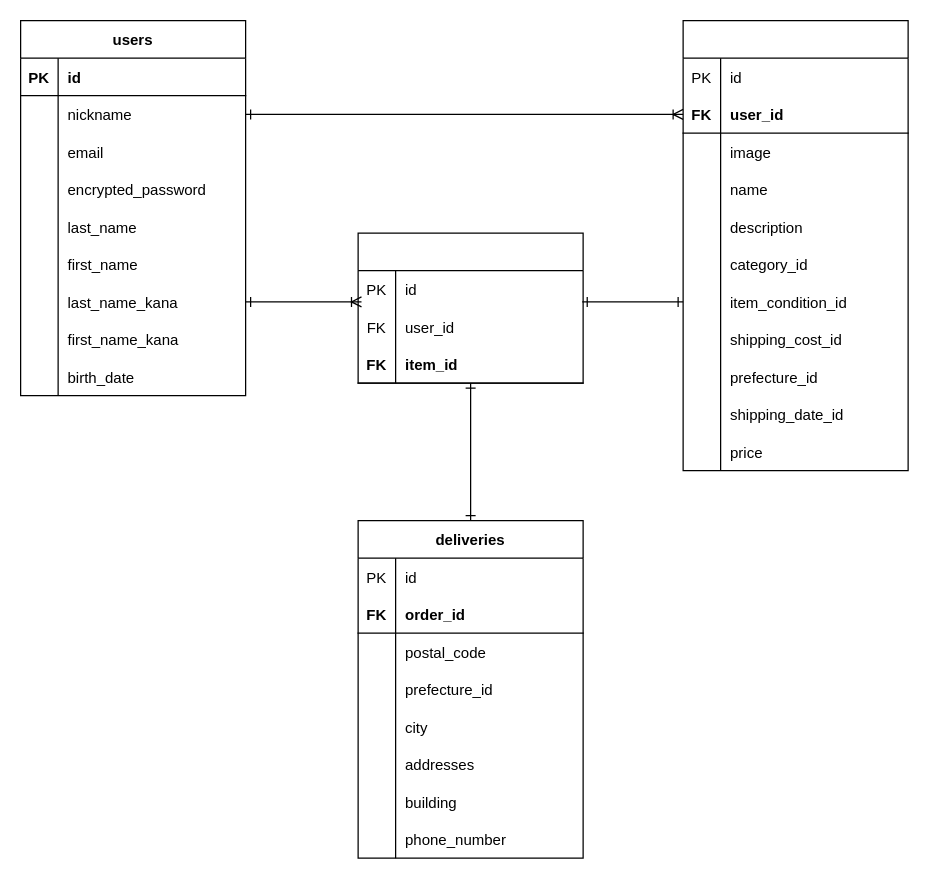
The diagram is 929 pixels wide and 879 high, and some of its shapes have lost their labels. Each missing label, with the box of its shape:
items: (682, 19, 908, 471)
orders: (357, 232, 583, 383)
